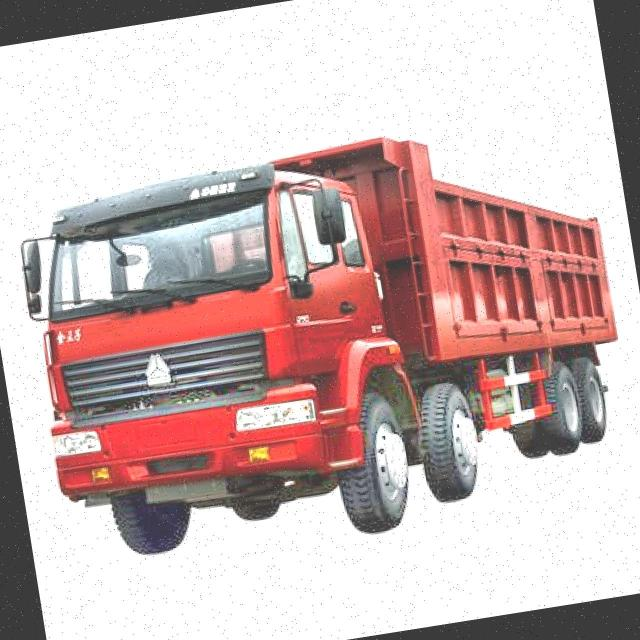dump_truck: (2, 92, 640, 601)
